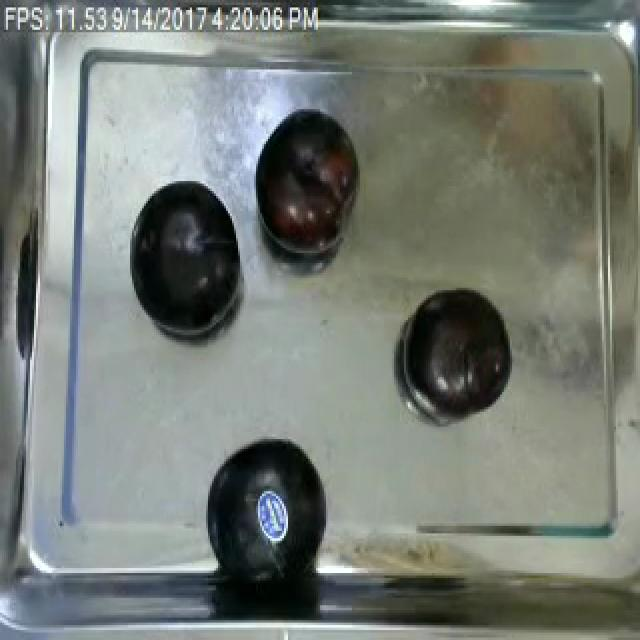Fruit: (192, 427, 336, 588), (124, 171, 252, 342), (248, 102, 364, 265), (402, 285, 516, 417)
